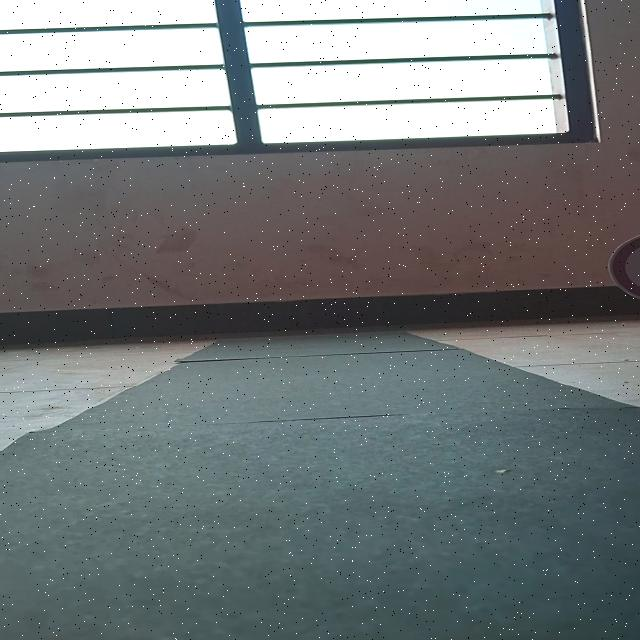Speed20: (599, 223, 640, 304)
